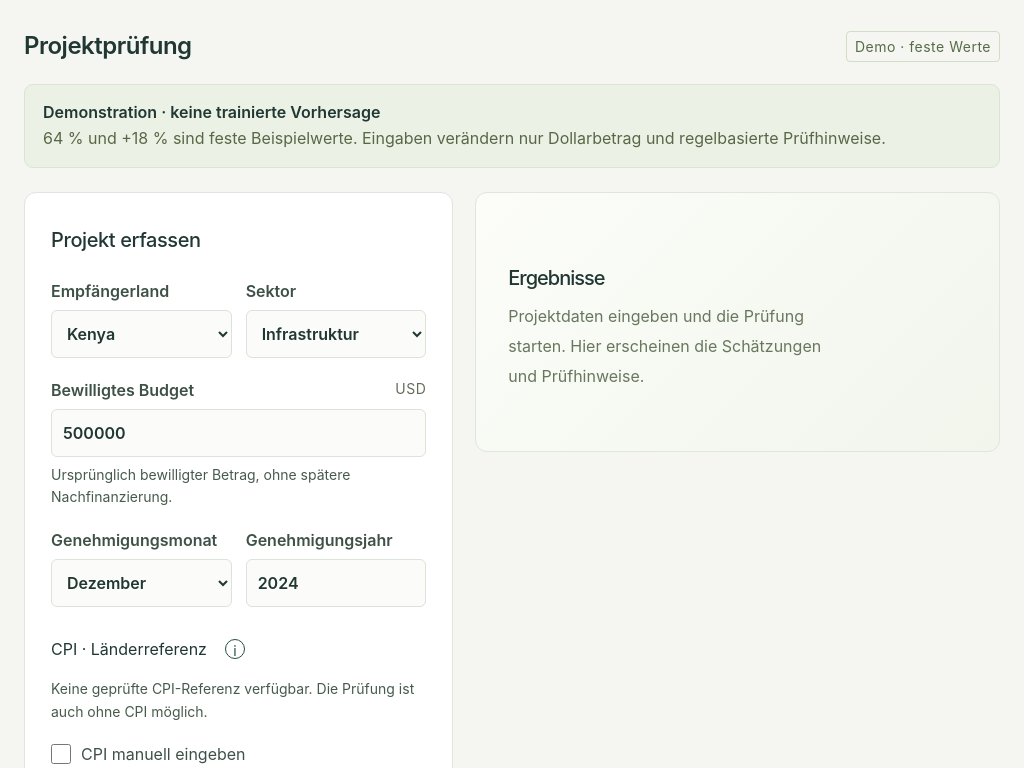
Test: project screening › accepts manual CPI zero and resets it when the country changes
Click the checkbox labelled "CPI manuell eingeben" at (61,754), box [51, 744, 71, 764]
(page scrolled)
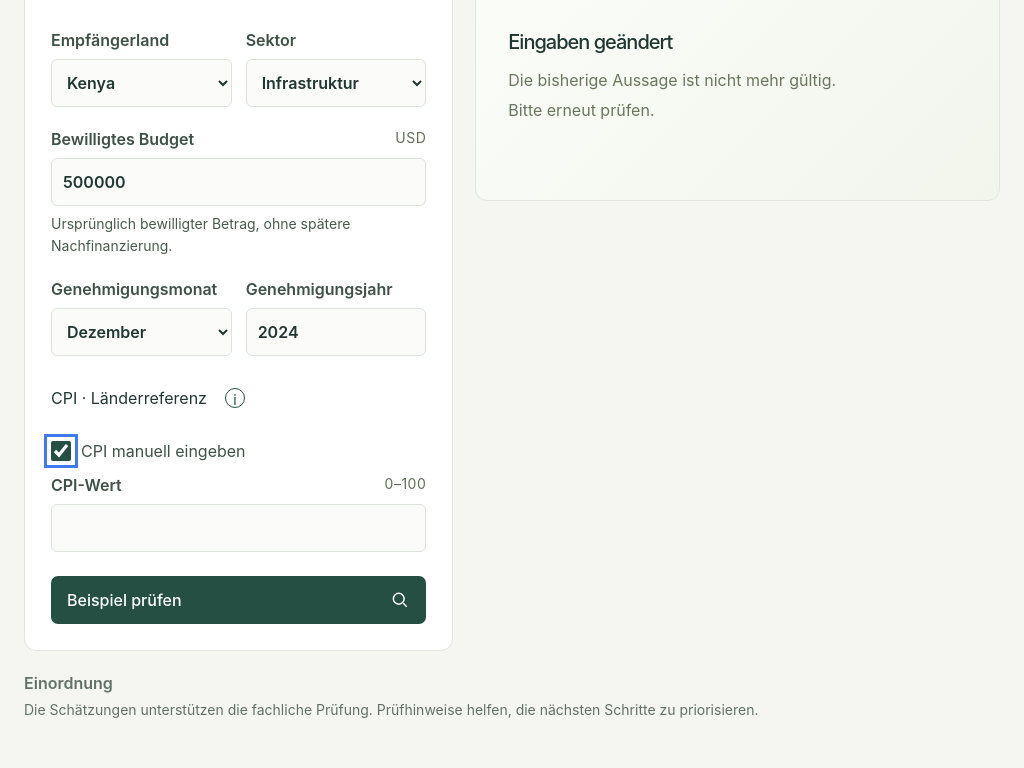
Type "0" into the number field labelled "CPI-Wert 0–100" at (239,528), box [51, 504, 426, 552]
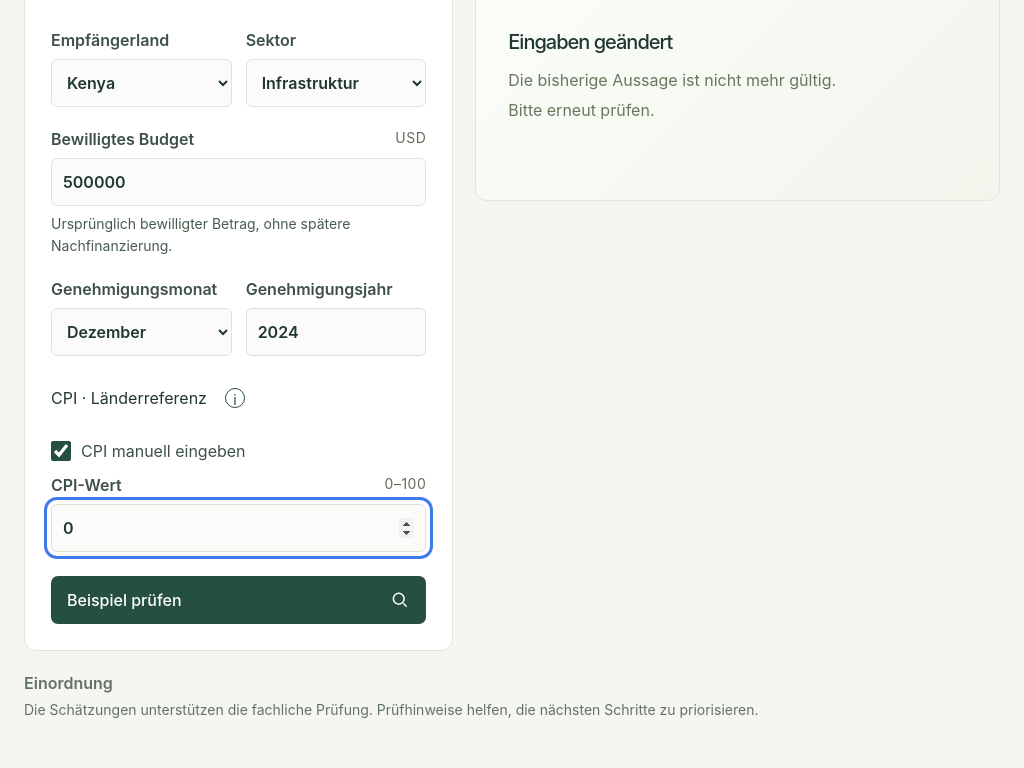
Click the button "Beispiel prüfen" at (124,600), box [51, 576, 426, 624]
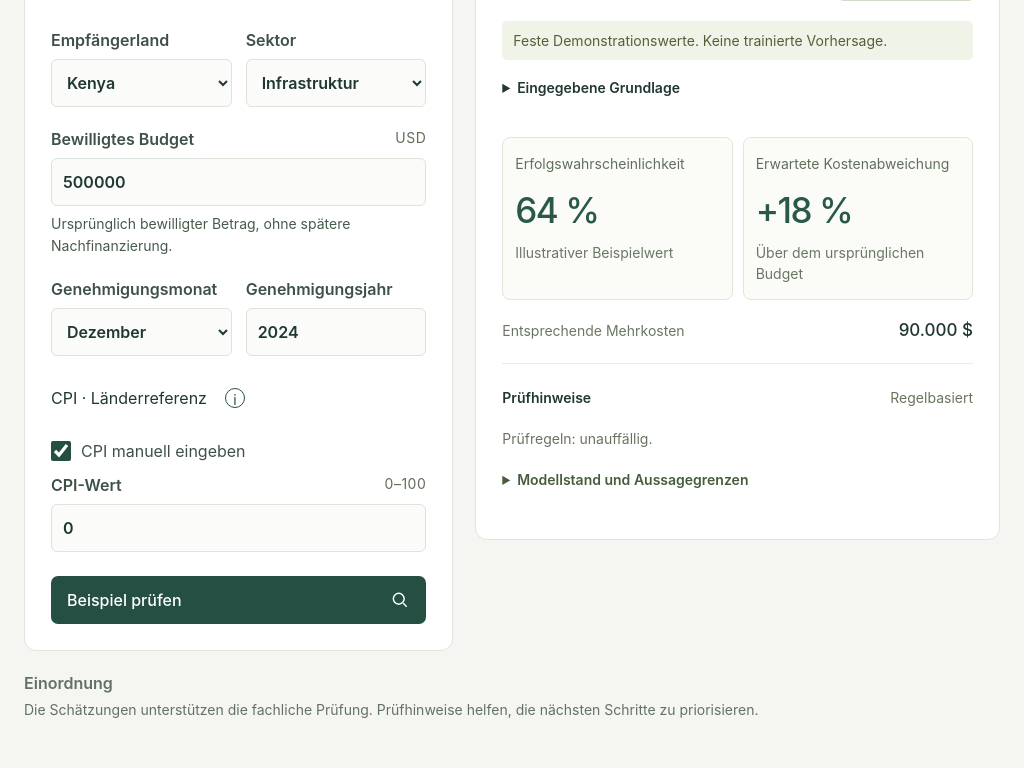
Select "Germany" in the dropdown labelled "Empfängerland" at (141,83), box [51, 59, 232, 107]
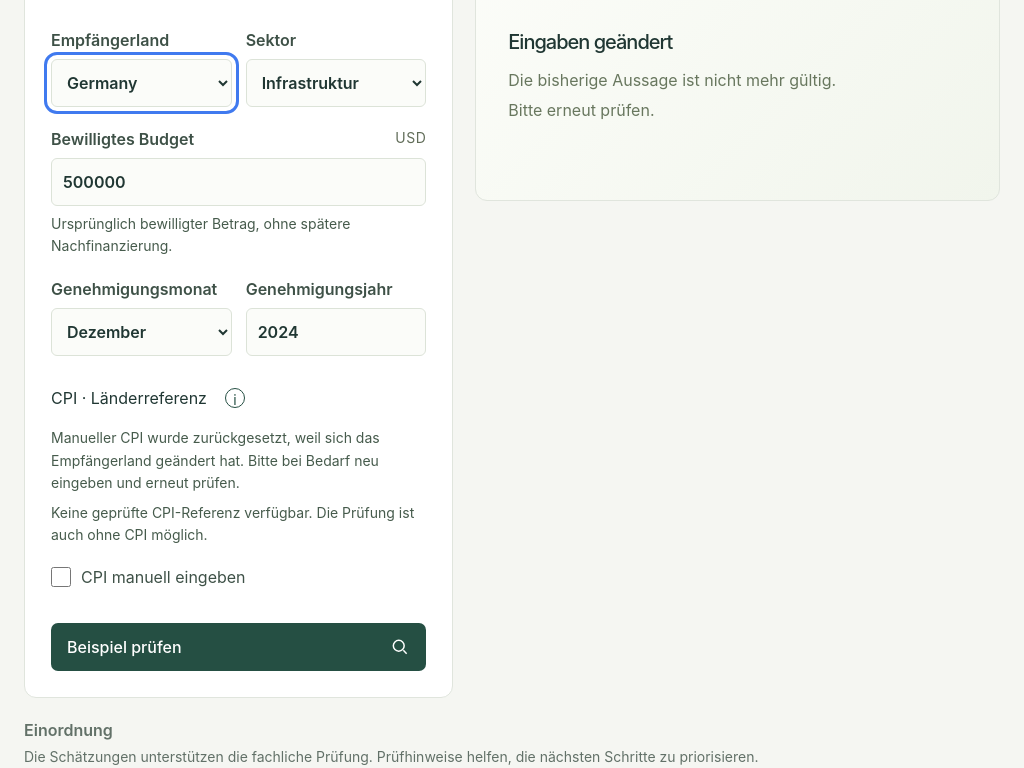
Now the checkbox labelled "CPI manuell eingeben" is not checked, box [51, 567, 71, 587]
Now the label labelled "CPI-Wert" is gone
